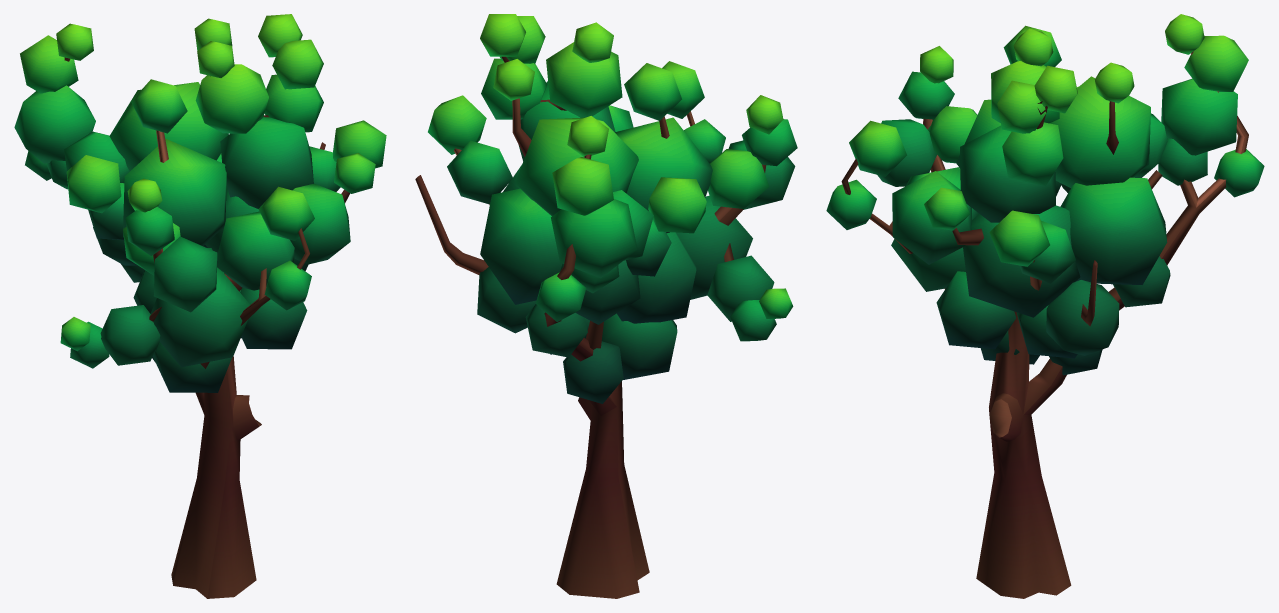
The model's file is tc_tree_2d.glb.
The picture shows the model from 3 angles, left to right: view 1: azimuth 30°, elevation 25°; view 2: azimuth 150°, elevation 25°; view 3: azimuth 270°, elevation 25°; orthographic projection. The views are drawn at different scales.
Parts seen in each view (by area): view 1: Tree_2D; view 2: Tree_2D; view 3: Tree_2D.
Part boxes in pixels (box(x1,y1,x2,y2)): Tree_2D: box(14, 14, 386, 598); Tree_2D: box(415, 14, 797, 598); Tree_2D: box(826, 14, 1264, 598).
Size of the model in its own units: 3.88 by 5.98 by 4.29.
Materials: 1 (1 with a texture image).
